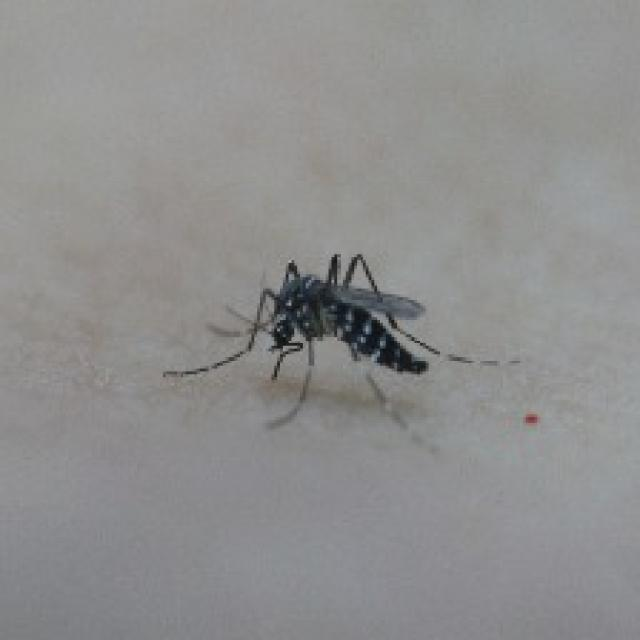aedes: (160, 249, 523, 437)
